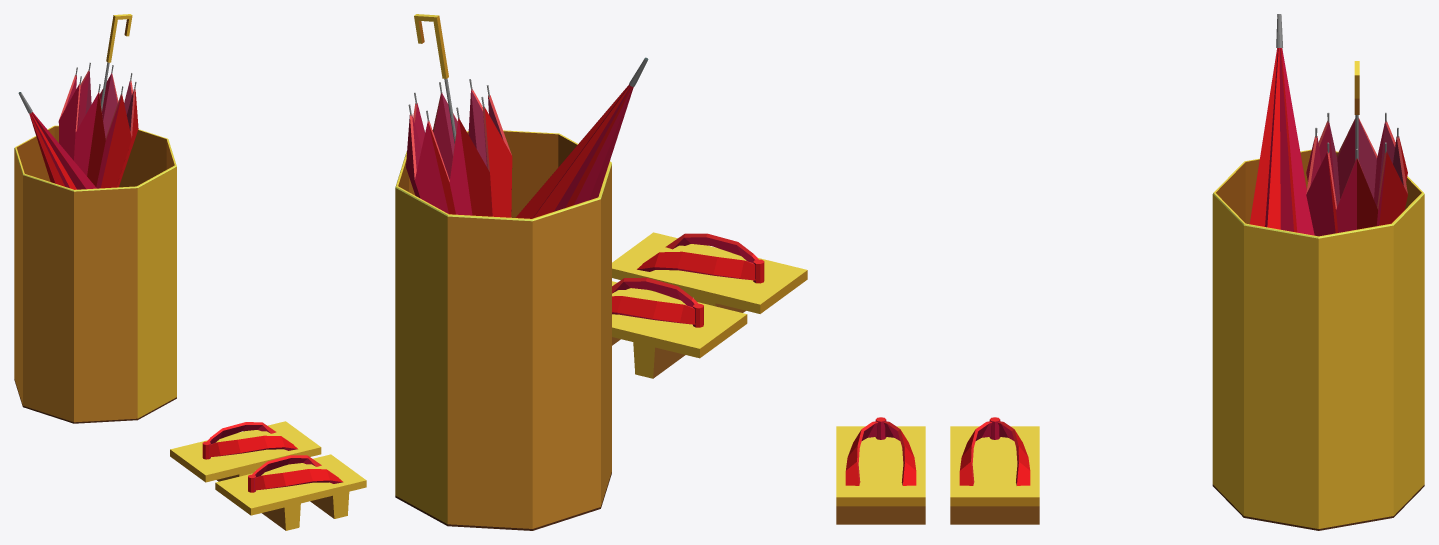
The model's file is Tongues__parapluie separated.fbx.
3 renders of one model, left to right at view 1: azimuth 30°, elevation 25°; view 2: azimuth 150°, elevation 25°; view 3: azimuth 270°, elevation 25°, orthographic. The views are drawn at different scales.
Visible parts, largest first — view 1: Porteparaplu, Parapluies 2, Togues, Togues 2, Parapluies; view 2: Porteparaplu, Parapluies 2, Togues, Togues 2, Parapluies; view 3: Porteparaplu, Parapluies 2, Togues, Togues 2, Parapluies.
Part boxes in pixels (x1,y1,x2,y2): Porteparaplu: (14,125,176,423); Parapluies 2: (58,14,138,188); Togues: (215,454,366,530); Togues 2: (170,421,321,482); Parapluies: (18,92,96,189); Porteparaplu: (395,130,611,530); Parapluies 2: (406,14,512,217); Togues: (612,232,807,313); Togues 2: (612,277,747,378); Parapluies: (515,57,648,218); Porteparaplu: (1212,149,1424,530); Parapluies 2: (1306,61,1407,236); Togues: (836,417,925,524); Togues 2: (950,417,1039,524); Parapluies: (1249,14,1314,235).
Size of the model in its own units: 65.26 by 129 by 154.
